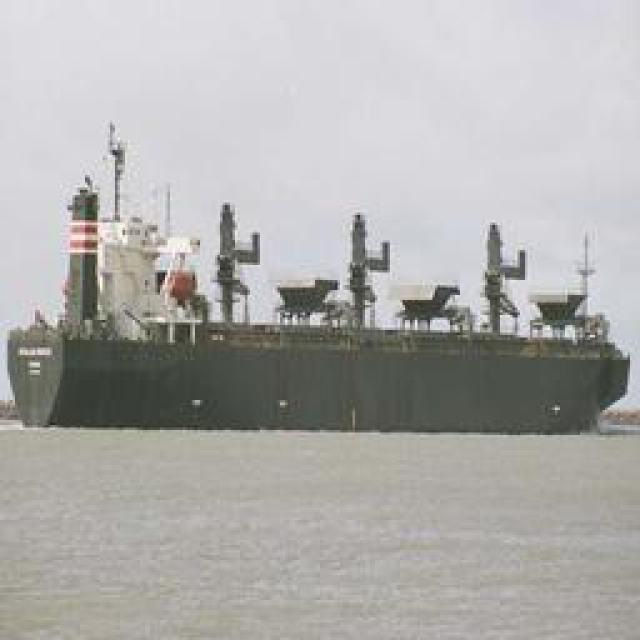Ship: (6, 110, 634, 447)
